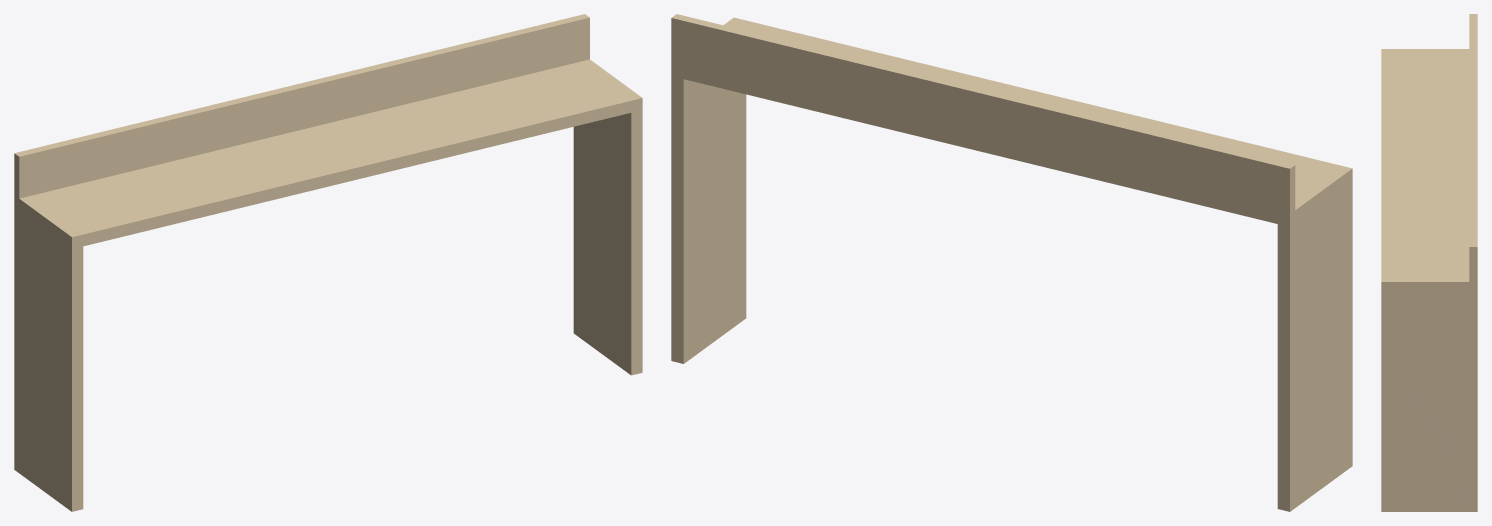
The model's file is shelf_wall.glb.
3 renders of one model, left to right at view 1: azimuth 30°, elevation 25°; view 2: azimuth 150°, elevation 25°; view 3: azimuth 270°, elevation 25°, orthographic. The views are drawn at different scales.
Visible parts, largest first — view 1: PK_shelf_wall; view 2: PK_shelf_wall; view 3: PK_shelf_wall.
Part boxes in pixels (x1,y1,x2,y2): PK_shelf_wall: [14, 14, 642, 511]; PK_shelf_wall: [671, 14, 1352, 511]; PK_shelf_wall: [1381, 14, 1477, 511].
Size of the model in its own units: 2 by 1.06 by 0.35.
